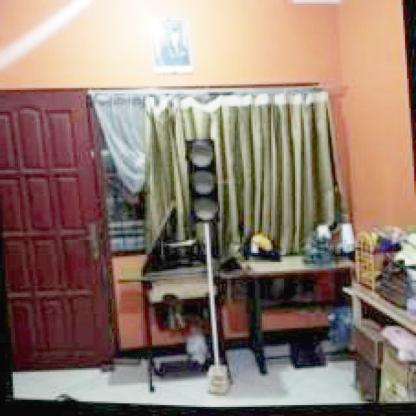Traffic Light -Yellow-: (185, 138, 222, 225)
